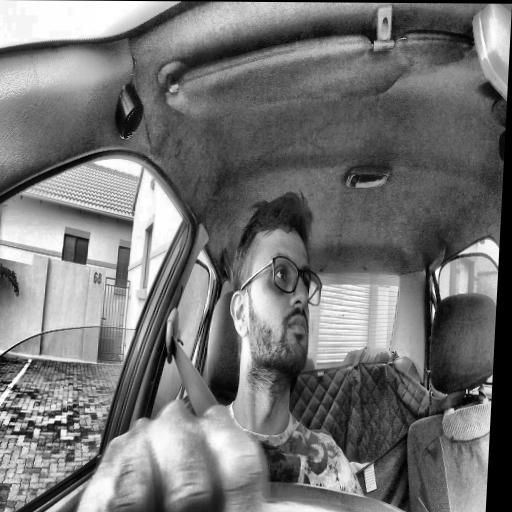awake: (226, 188, 328, 378)
